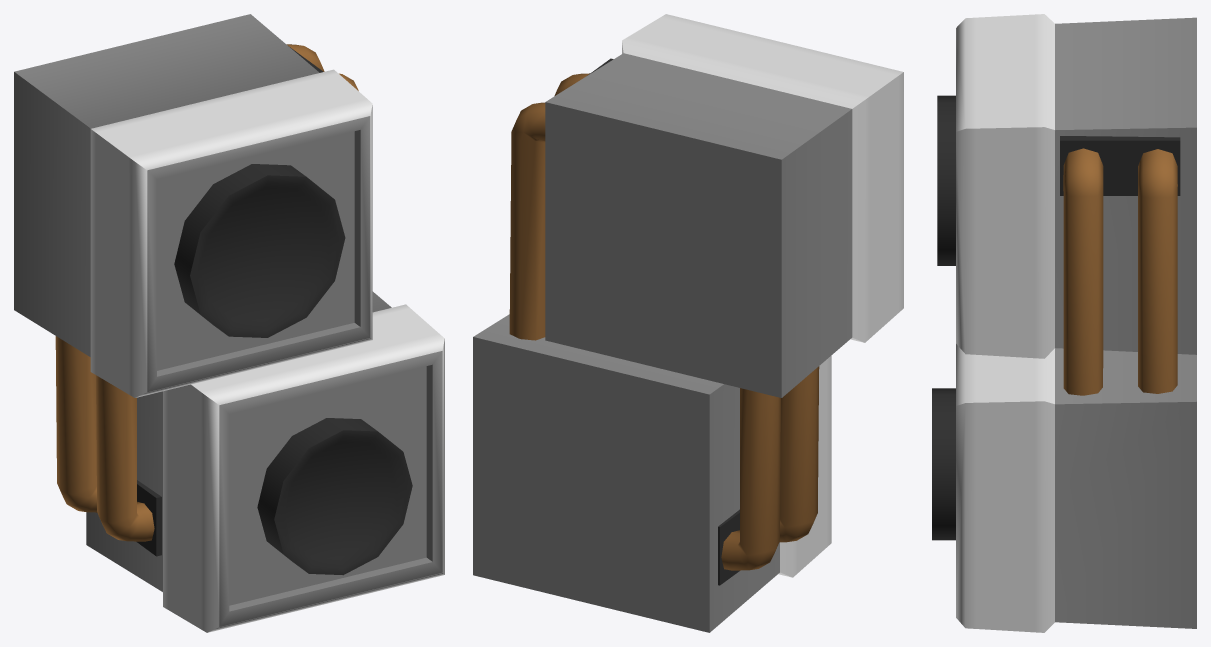
The model's file is n_ac_stacked.glb.
3 views of the same model, side by side, from view 1: azimuth 30°, elevation 25°; view 2: azimuth 150°, elevation 25°; view 3: azimuth 270°, elevation 25° (orthographic). The views are drawn at different scales.
Parts seen in each view (by area): view 1: AC_Stacked; view 2: AC_Stacked; view 3: AC_Stacked.
Part boxes in pixels (left/top/right/bottom): AC_Stacked: left=14, top=14, right=444, bottom=632; AC_Stacked: left=473, top=14, right=903, bottom=632; AC_Stacked: left=932, top=14, right=1196, bottom=632.
Size of the model in its own units: 0.6701 by 1.01 by 0.5114.
